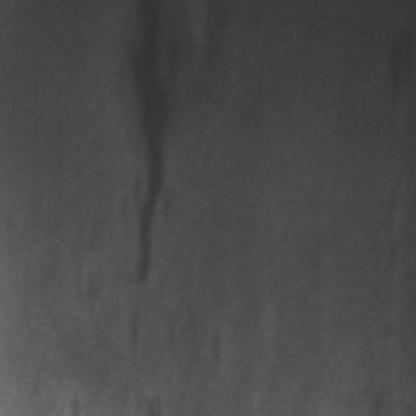inclusion: (114, 0, 179, 285), (376, 15, 410, 127), (193, 0, 229, 100)
